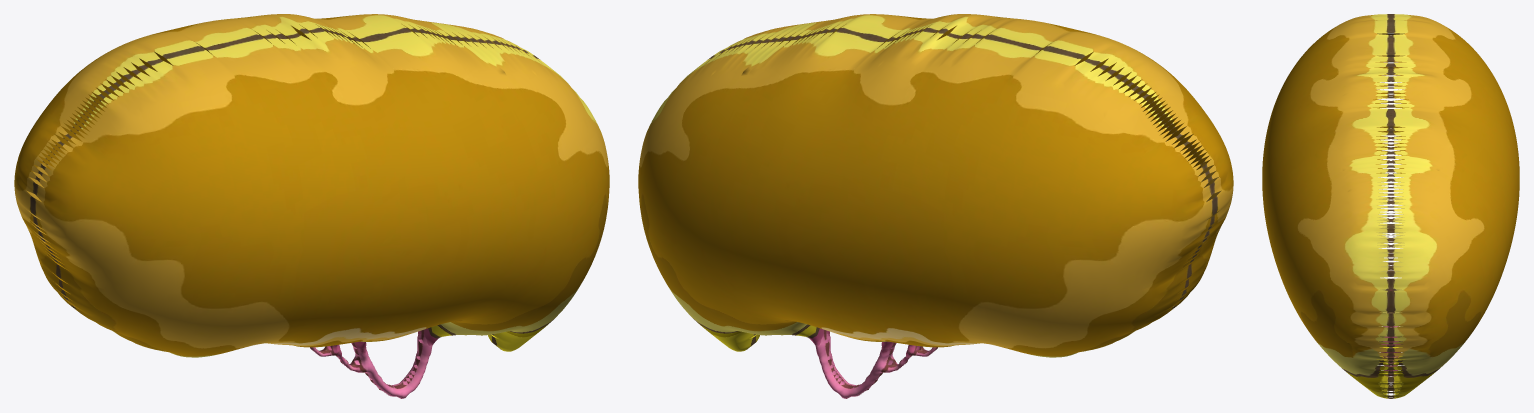
Rendered from yellow_shelf.glb.
3 renders of one model, left to right at view 1: azimuth 30°, elevation 25°; view 2: azimuth 150°, elevation 25°; view 3: azimuth 270°, elevation 25°, orthographic. The views are drawn at different scales.
Visible parts, largest first — view 1: yellow_shelf; view 2: yellow_shelf; view 3: yellow_shelf.
Boxes of the visible parts, bbox=[...] form: yellow_shelf: bbox=[14, 14, 609, 398]; yellow_shelf: bbox=[638, 14, 1233, 398]; yellow_shelf: bbox=[1262, 14, 1519, 398].
Size of the model in its own units: 0.989 by 0.676 by 0.5664.
1 material, 1 textured.
